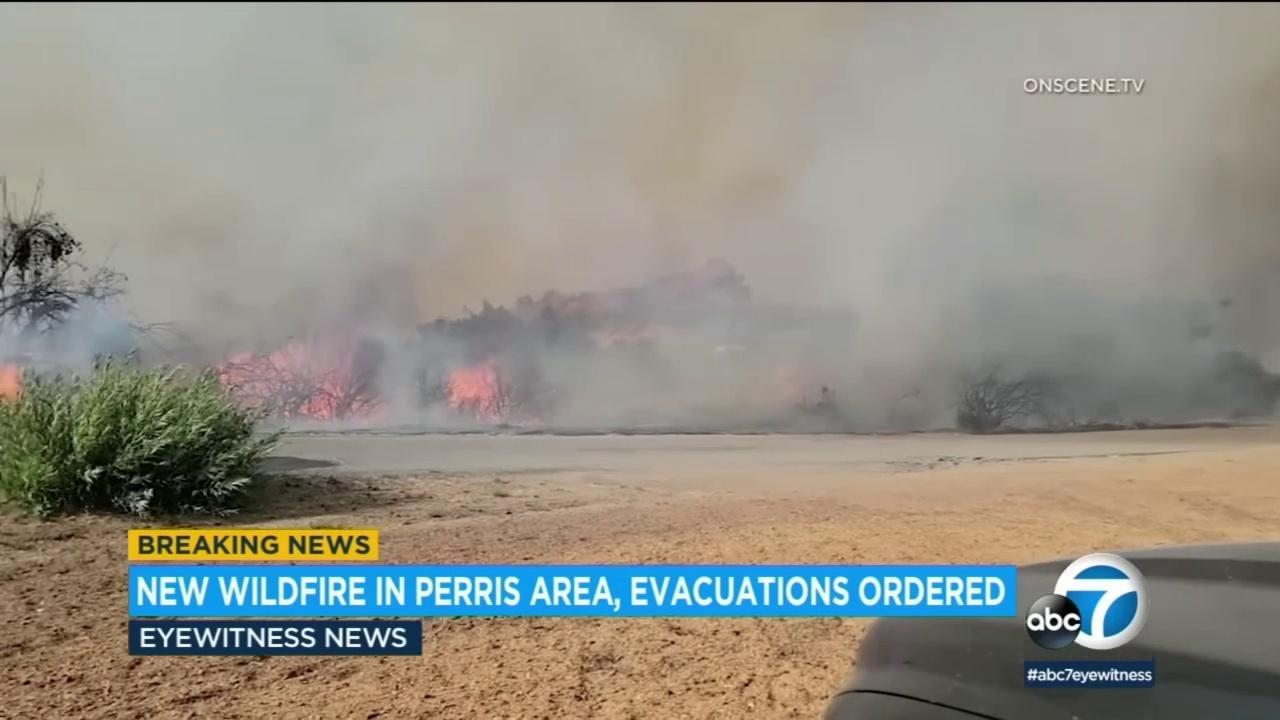fire: (217, 340, 387, 424), (445, 356, 514, 425), (0, 360, 25, 403)
smoke: (0, 2, 1280, 434)
